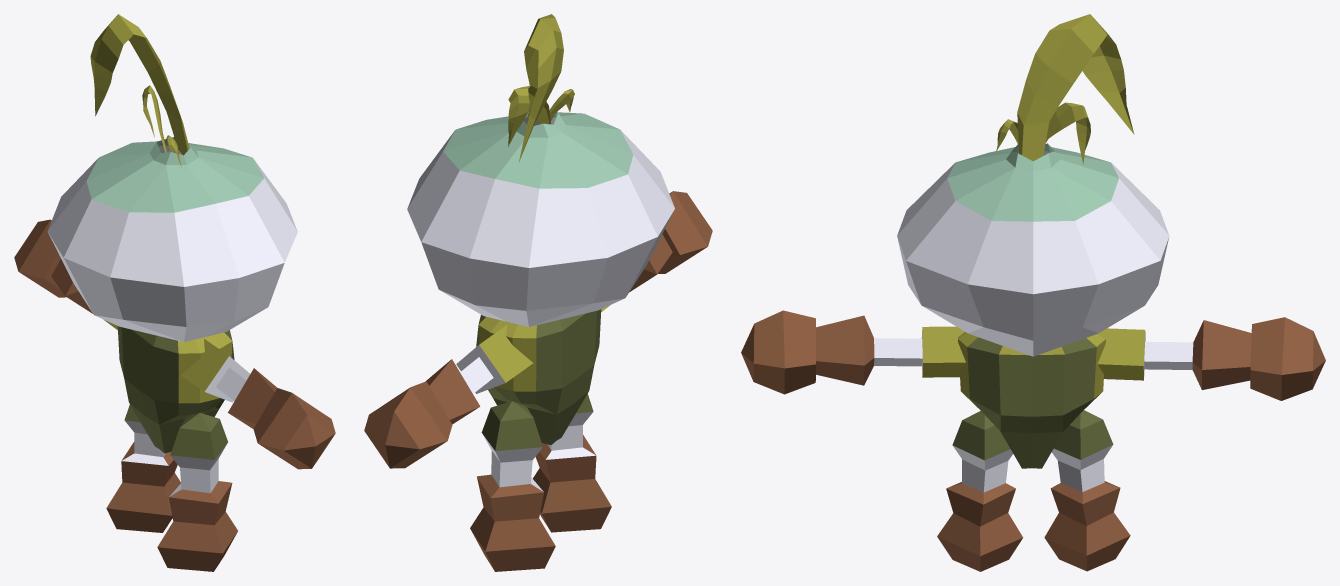
Rendered from Boneco.fbx.
3 renders of one model, left to right at view 1: azimuth 30°, elevation 25°; view 2: azimuth 150°, elevation 25°; view 3: azimuth 270°, elevation 25°, orthographic. The views are drawn at different scales.
Visible parts, largest first — view 1: Head, Leg, Hand, Body, Plane, Plane.001; view 2: Head, Leg, Hand, Body, Plane, Plane.001; view 3: Head, Hand, Leg, Body, Plane, Plane.001.
Boxes of the visible parts, left/top/right/bottom form: Head: left=47, top=137, right=297, bottom=341; Leg: left=106, top=404, right=237, bottom=571; Hand: left=14, top=219, right=335, bottom=469; Body: left=117, top=326, right=234, bottom=453; Plane: left=90, top=14, right=189, bottom=155; Plane.001: left=142, top=85, right=166, bottom=152; Head: left=407, top=112, right=674, bottom=326; Leg: left=470, top=394, right=611, bottom=571; Hand: left=364, top=191, right=712, bottom=468; Body: left=476, top=309, right=601, bottom=444; Plane: left=519, top=14, right=563, bottom=161; Plane.001: left=508, top=85, right=550, bottom=146; Head: left=897, top=143, right=1169, bottom=356; Hand: left=741, top=310, right=1325, bottom=400; Leg: left=937, top=410, right=1130, bottom=571; Body: left=958, top=332, right=1105, bottom=468; Plane: left=1017, top=14, right=1134, bottom=161; Plane.001: left=1045, top=102, right=1090, bottom=164.
Size of the model in its own units: 199 by 439 by 438.
